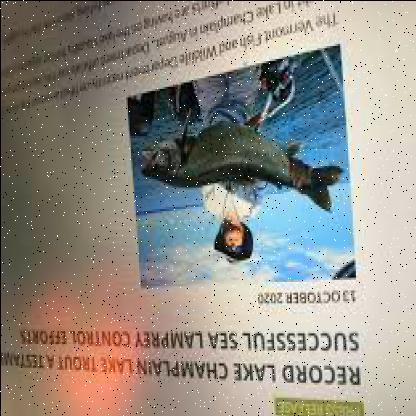fish: (138, 115, 342, 214)
